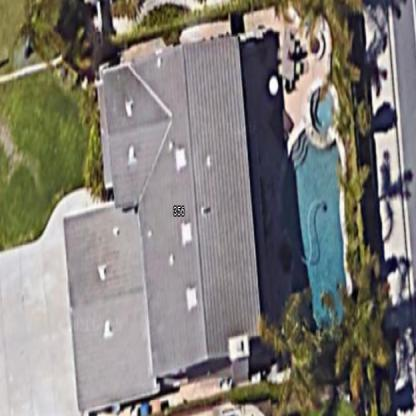pool: (277, 80, 357, 342)
